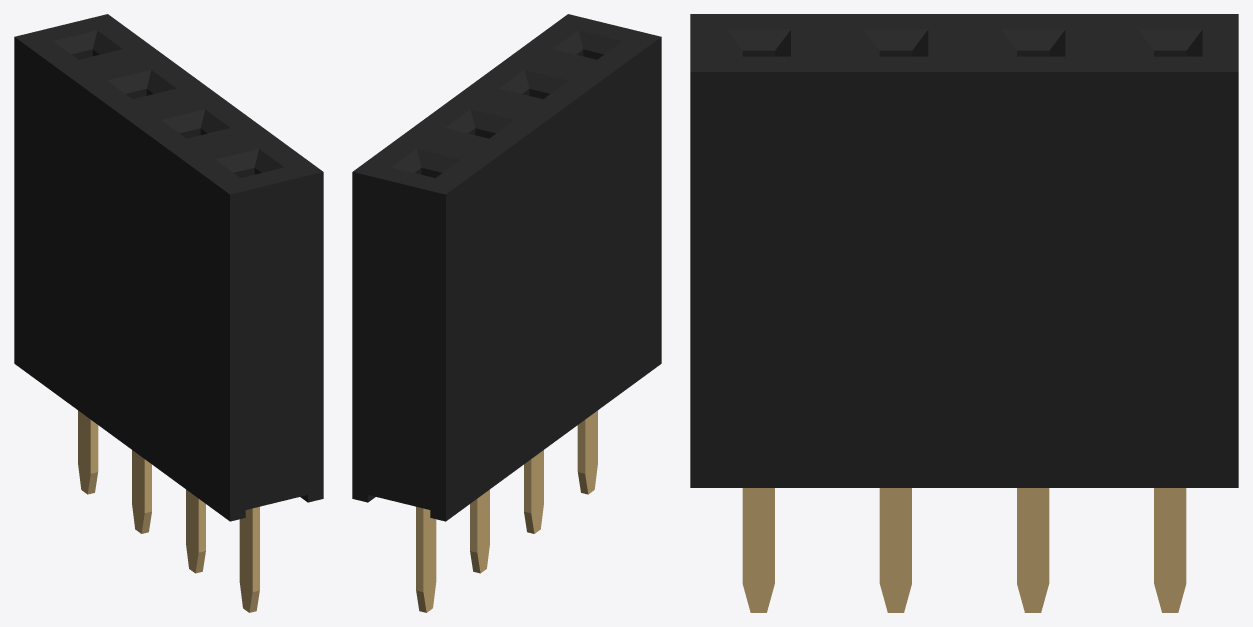
Rendered from kc-pinsocket_1x04_p2.54mm_vertical.glb.
3 renders of one model, left to right at view 1: azimuth 30°, elevation 25°; view 2: azimuth 150°, elevation 25°; view 3: azimuth 270°, elevation 25°, orthographic. The views are drawn at different scales.
Parts seen in each view (by area): view 1: 0_0_0_0, 0.75_0.5_0.25_0.9; view 2: 0_0_0_0, 0.75_0.5_0.25_0.9; view 3: 0_0_0_0, 0.75_0.5_0.25_0.9.
Boxes of the visible parts, <box> form: 0_0_0_0: <box>14,14,323,521</box>; 0.75_0.5_0.25_0.9: <box>78,410,259,612</box>; 0_0_0_0: <box>352,14,661,521</box>; 0.75_0.5_0.25_0.9: <box>416,410,597,612</box>; 0_0_0_0: <box>690,14,1238,487</box>; 0.75_0.5_0.25_0.9: <box>742,488,1186,612</box>.
Bounding box in the file's own units: 0.254 × 1.16 × 1.02.
